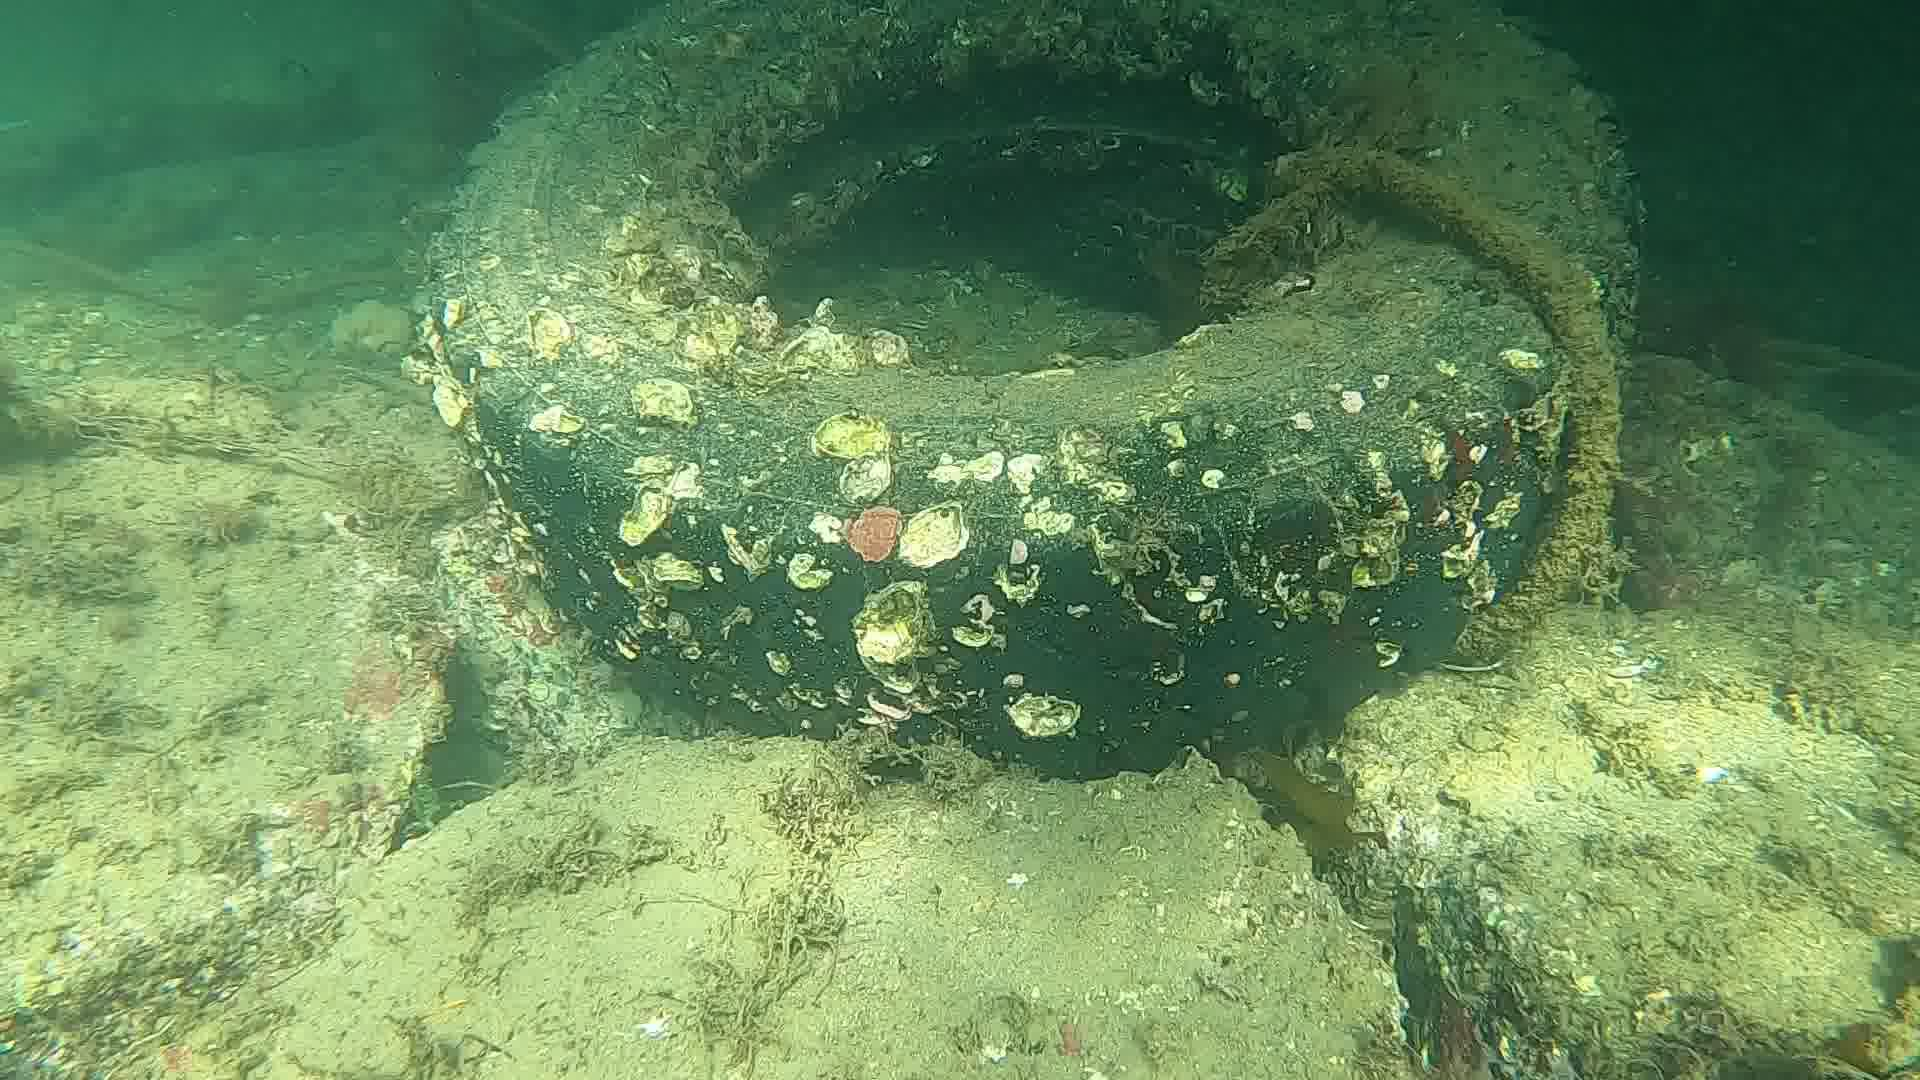rope: (1195, 142, 1623, 662)
tire: (419, 0, 1633, 777)
